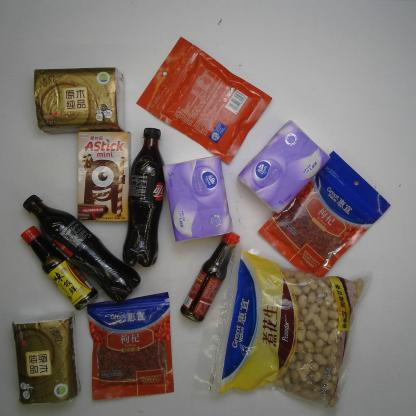Dessert: (73, 130, 135, 223)
Dried Food: (186, 244, 378, 412)
Dried Fruit: (255, 146, 394, 284), (134, 35, 276, 168), (84, 288, 181, 403)
Drink: (19, 187, 145, 302), (118, 127, 172, 266)
Seasoner: (15, 223, 99, 313), (181, 228, 244, 322)
Tissue: (236, 116, 332, 220), (10, 314, 85, 408), (158, 152, 234, 244), (32, 65, 129, 137)
